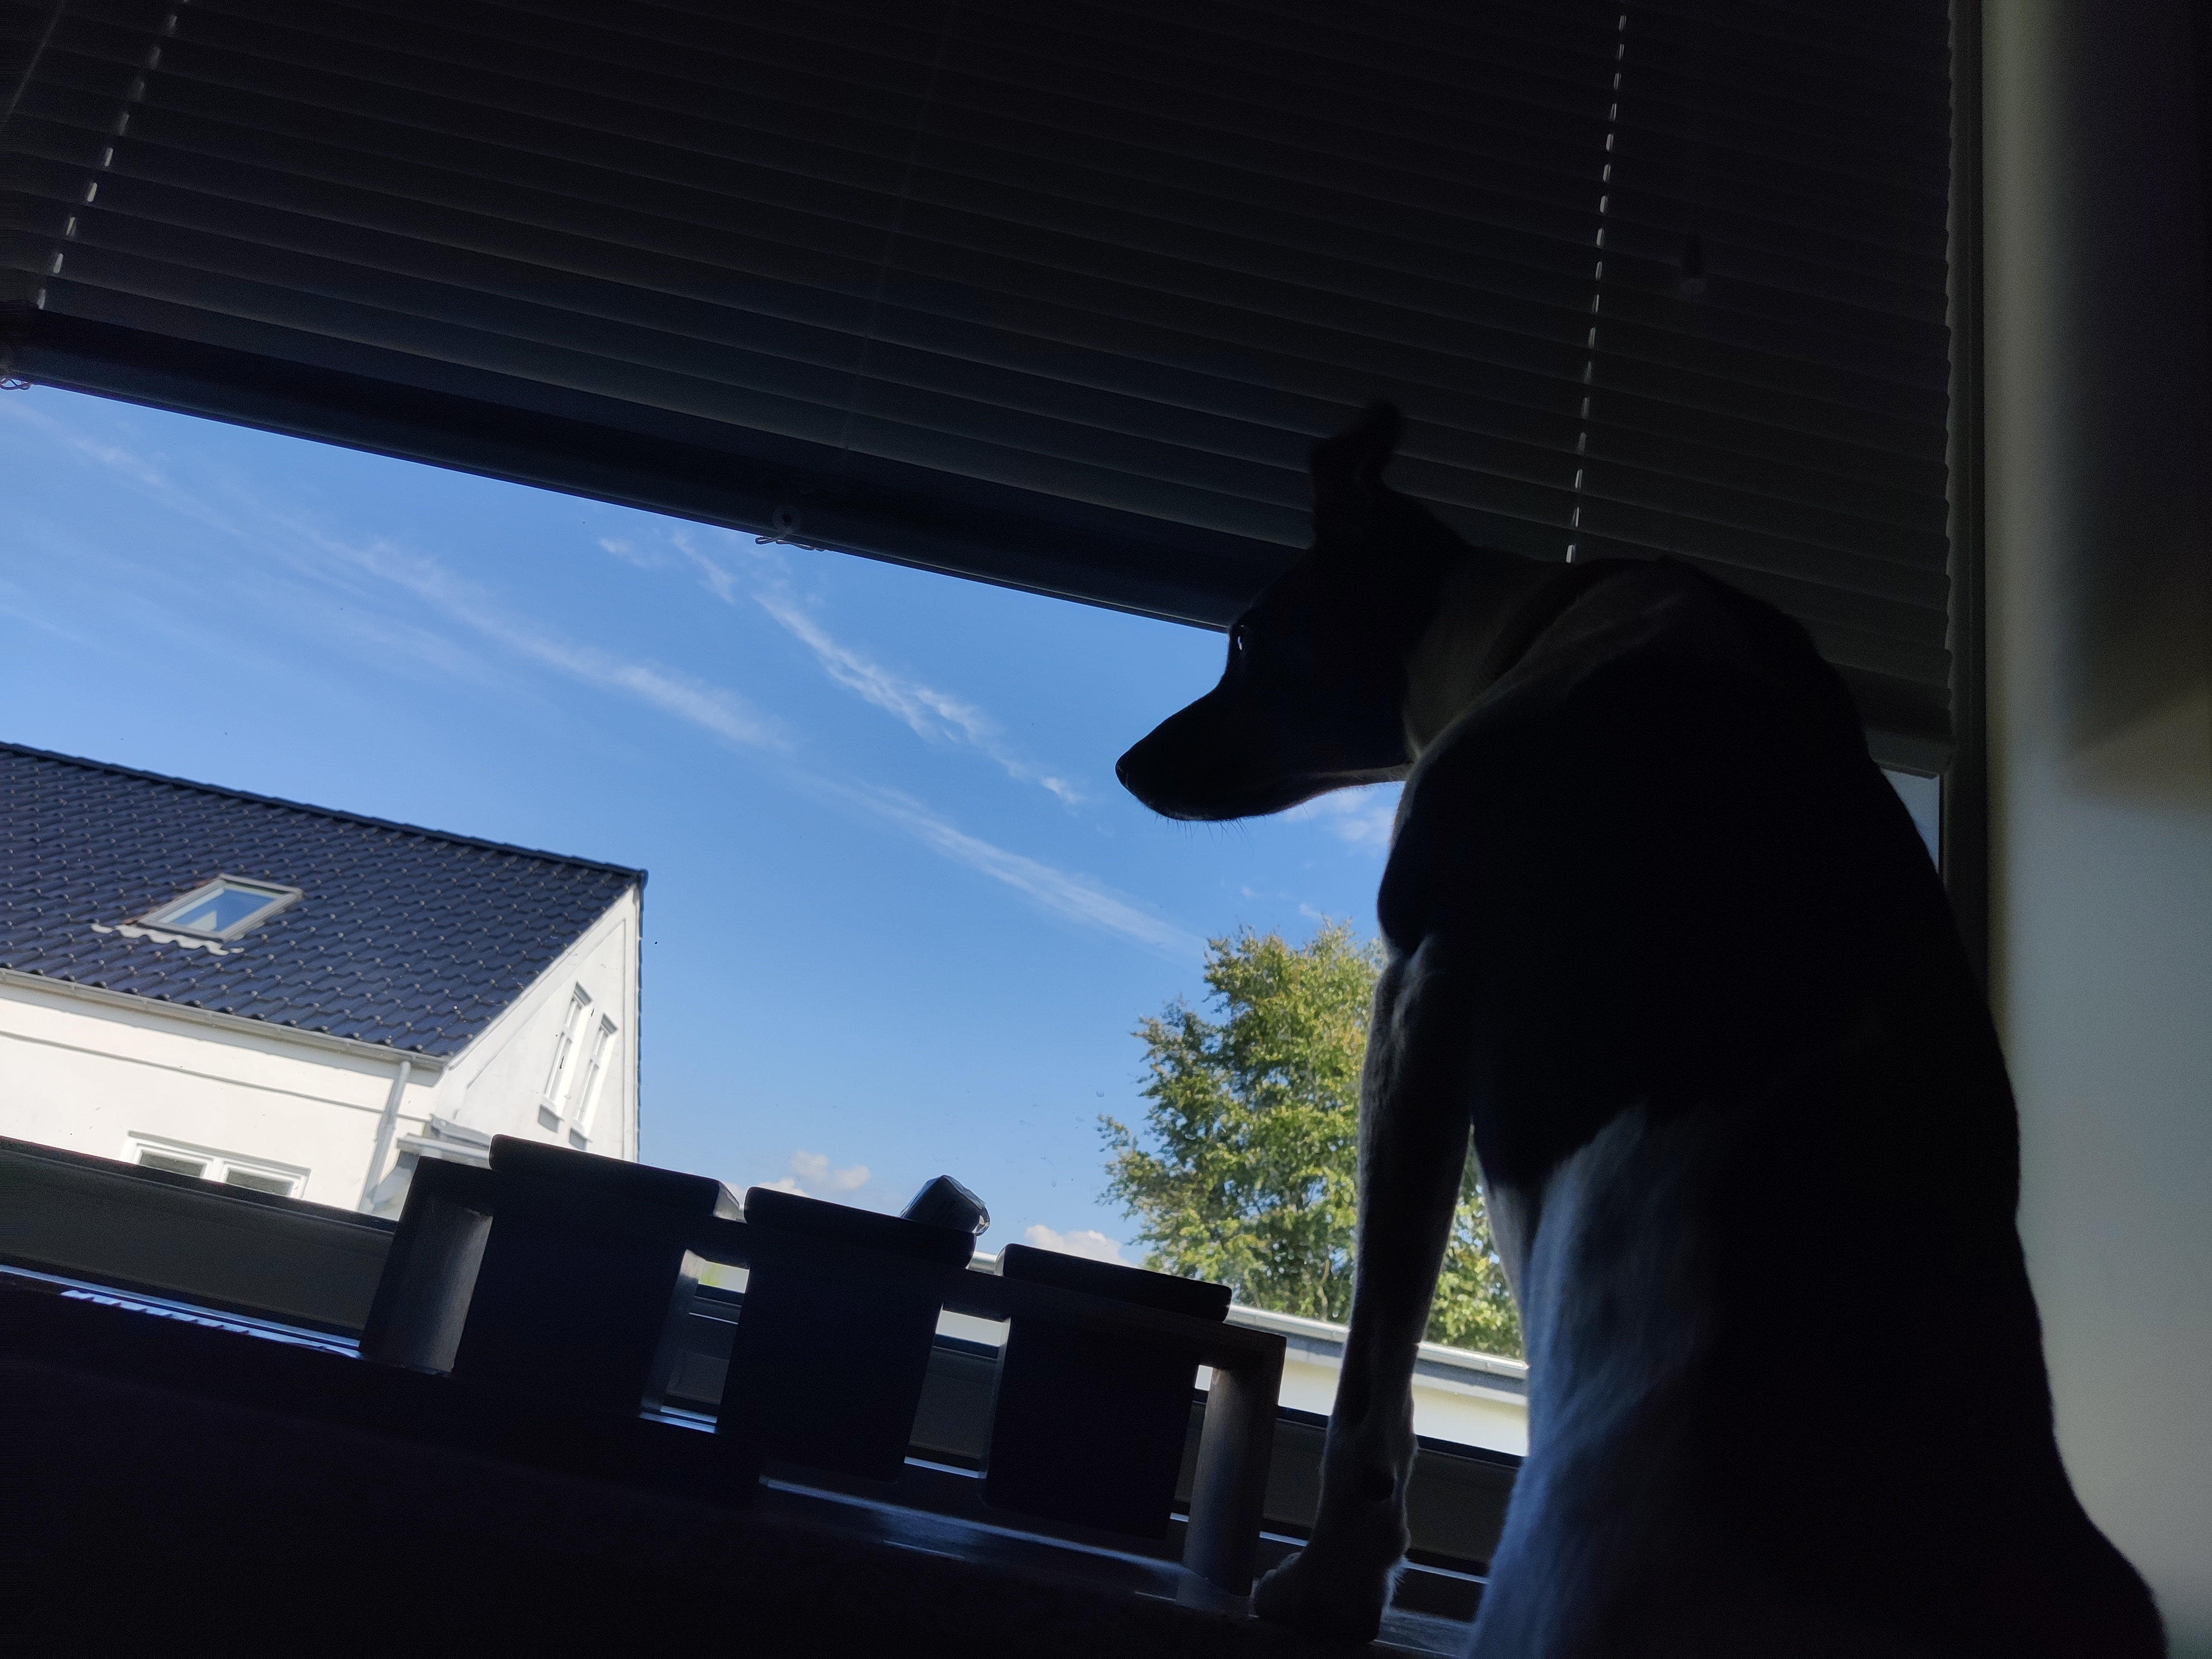Dog: (1094, 387, 2182, 1659)
